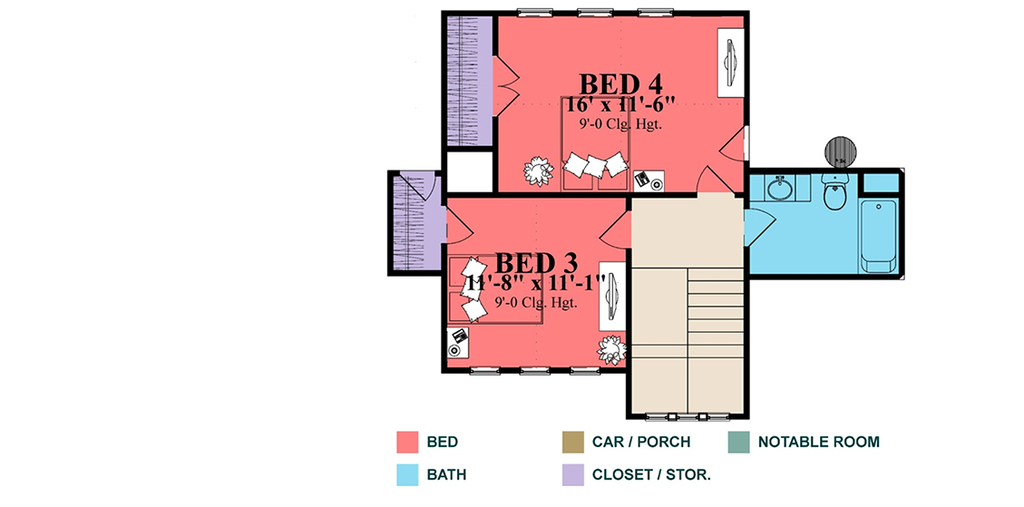door: (493, 55, 522, 122), (695, 166, 740, 202), (744, 209, 780, 249), (597, 209, 632, 248), (397, 172, 441, 202), (445, 206, 478, 245), (718, 128, 748, 166)
large_sink: (818, 169, 855, 214)
small_sink: (750, 172, 810, 204)
stairs: (631, 267, 744, 419)
tub: (852, 196, 903, 275)
windows: (515, 2, 677, 21), (465, 360, 606, 381)
